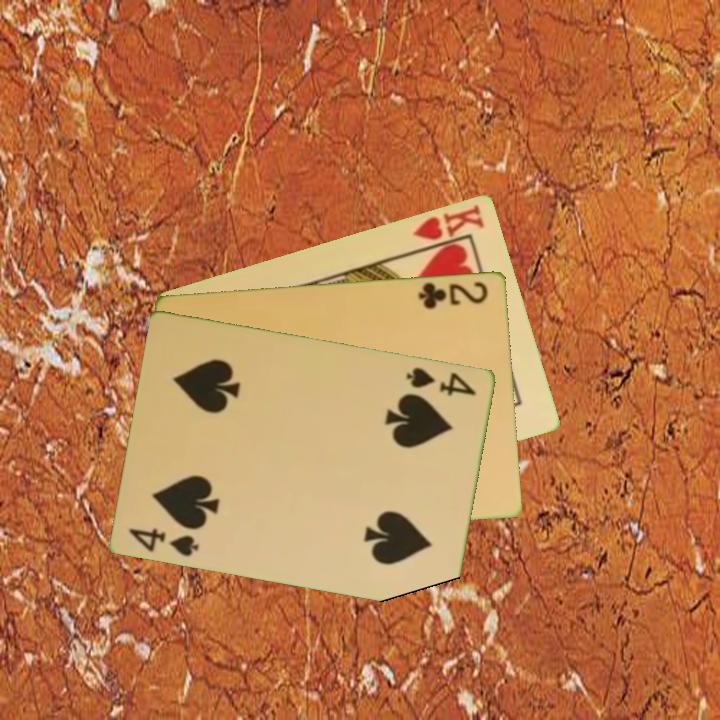2c: (415, 277, 491, 311)
4s: (403, 363, 480, 399), (126, 524, 202, 559)
Kh: (410, 200, 488, 254)
